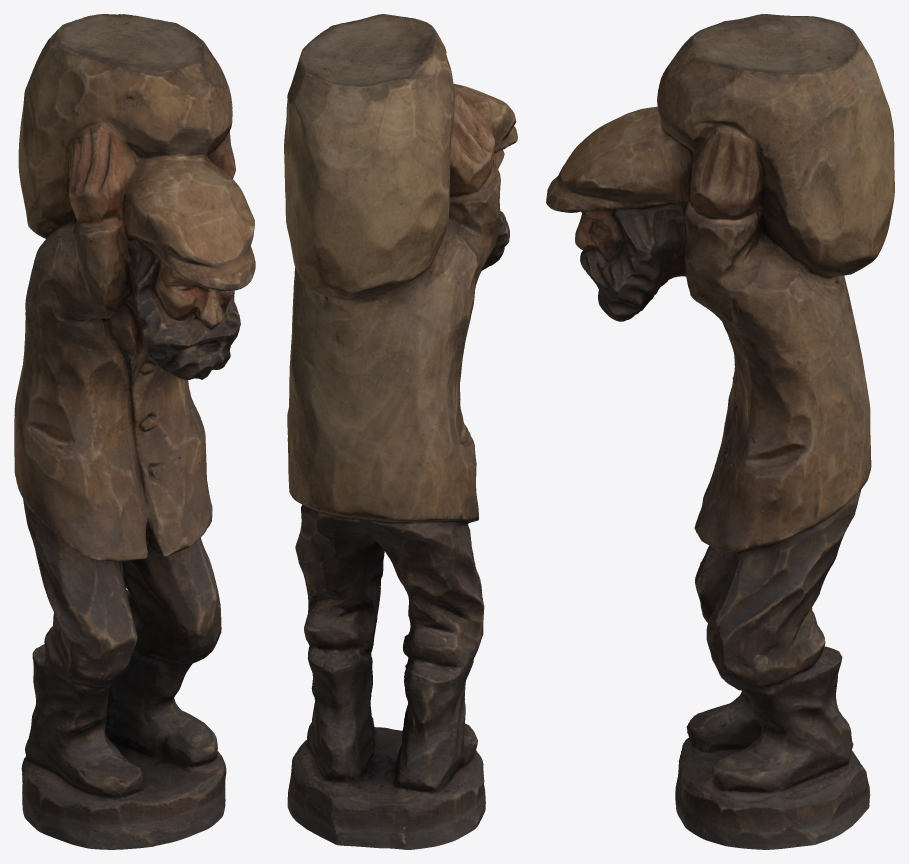
The model's file is MPL_W_E_1510_lowpoly.glb.
3 views of the same model, side by side, from view 1: azimuth 30°, elevation 25°; view 2: azimuth 150°, elevation 25°; view 3: azimuth 270°, elevation 25° (orthographic).
Parts seen in each view (by area): view 1: MPL_W_E_1510_lowpoly; view 2: MPL_W_E_1510_lowpoly; view 3: MPL_W_E_1510_lowpoly.
Boxes of the visible parts, <box> form: MPL_W_E_1510_lowpoly: <box>14,14,255,849</box>; MPL_W_E_1510_lowpoly: <box>284,14,517,849</box>; MPL_W_E_1510_lowpoly: <box>546,14,894,849</box>.
Size of the model in its own units: 0.0704 by 0.2903 by 0.1189.
1 material, 1 textured.
